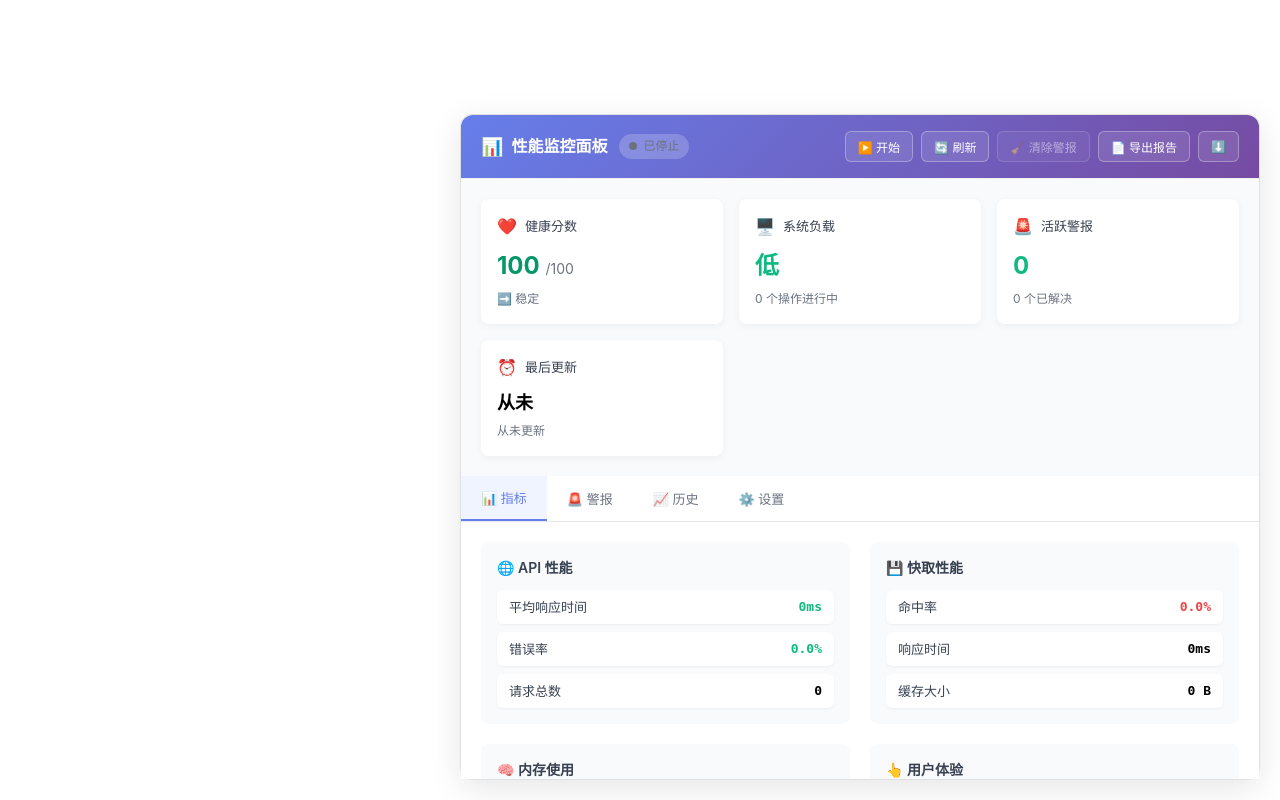
Test case: DevMetrics › should show settings panel with configuration options
Click the button with class "tab-btn" showing "⚙️ 设置" at (761, 499), box [718,476,804,521]
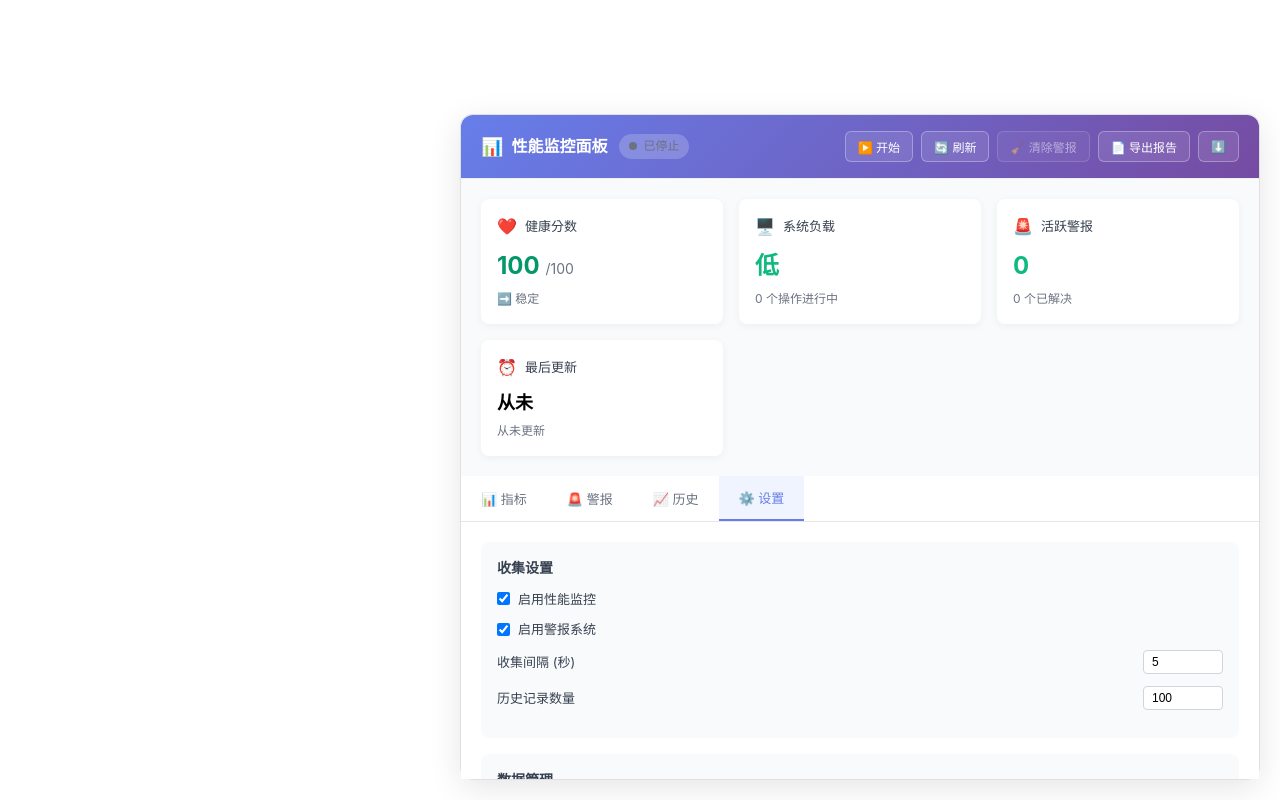
Result: the element with class "settings-panel" is shown at [461,522,1259,779]
Result: the checkbox labelled "启用性能监控" is shown at [497,592,510,605]
Result: the number field labelled "收集间隔 (秒)" is shown at [1143,650,1223,674]
